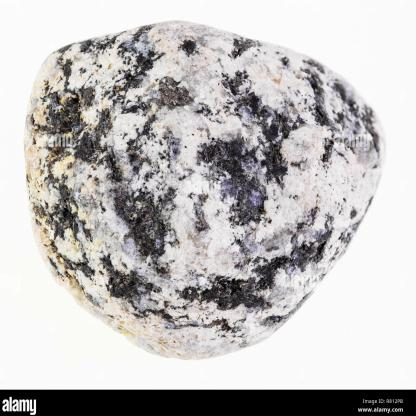Igneous_Diorite: (26, 18, 395, 366)
